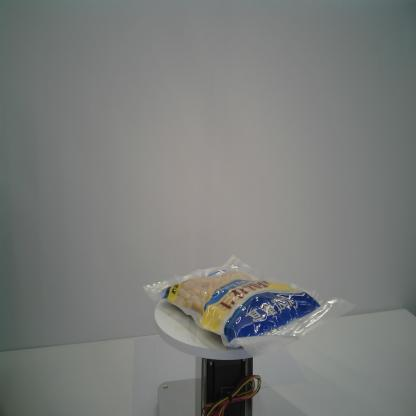Dried Fruit: (143, 254, 357, 359)
